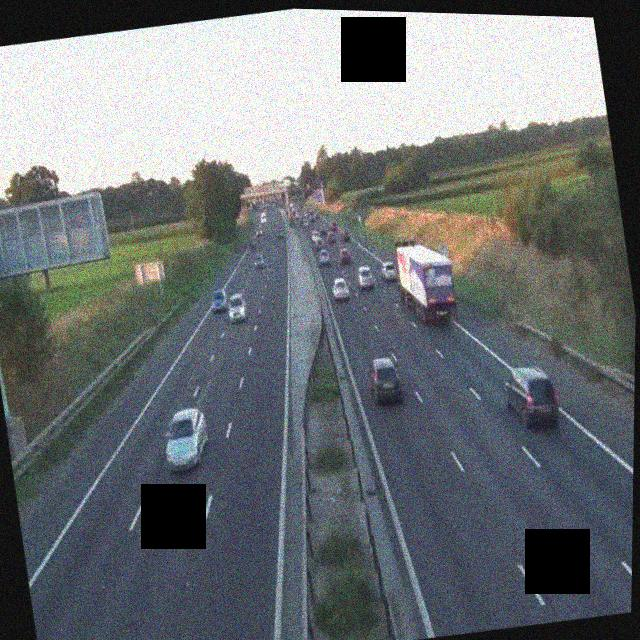car: (499, 362, 561, 431), (159, 405, 213, 473), (366, 354, 405, 407), (227, 291, 249, 323), (330, 274, 351, 301), (209, 286, 230, 313), (356, 265, 375, 289), (339, 245, 353, 264), (318, 248, 332, 266), (311, 235, 324, 251), (253, 252, 265, 269), (340, 227, 350, 242), (274, 227, 284, 240)
truck: (392, 236, 460, 328)
